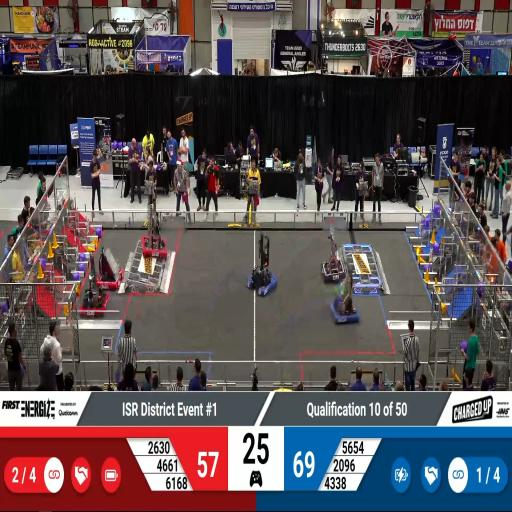robot: (246, 248, 278, 300), (94, 245, 124, 291), (80, 279, 110, 319), (328, 290, 360, 327), (142, 223, 169, 263), (319, 250, 345, 284)
